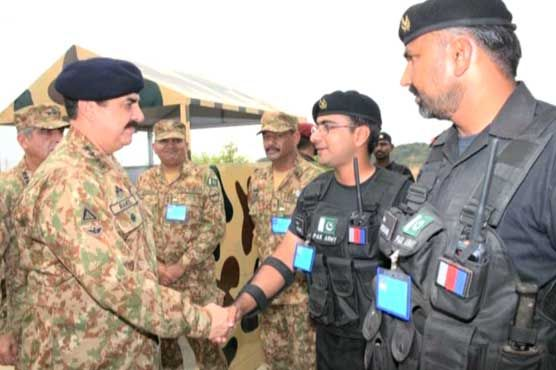uniform: (10, 116, 158, 358), (137, 123, 224, 369), (246, 113, 317, 360)
